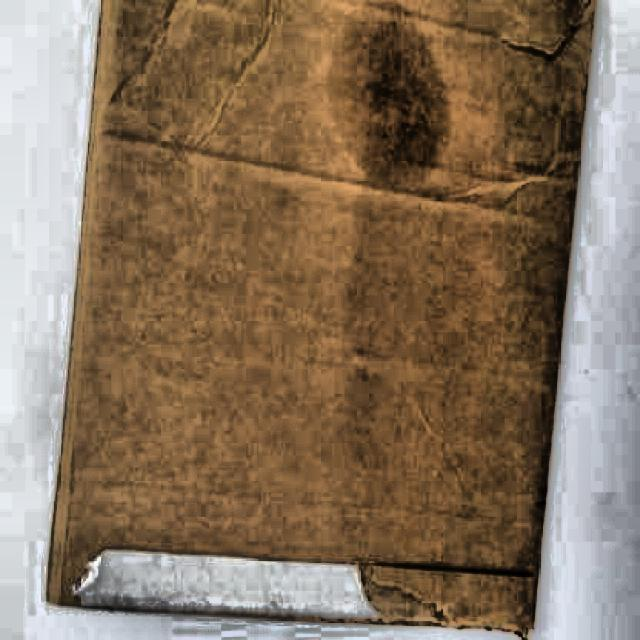Cardbox: (58, 0, 640, 640)
